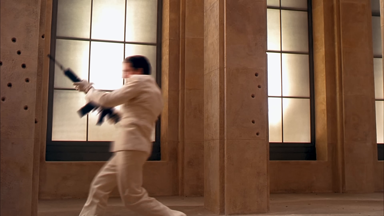firearm: (44, 51, 124, 128)
